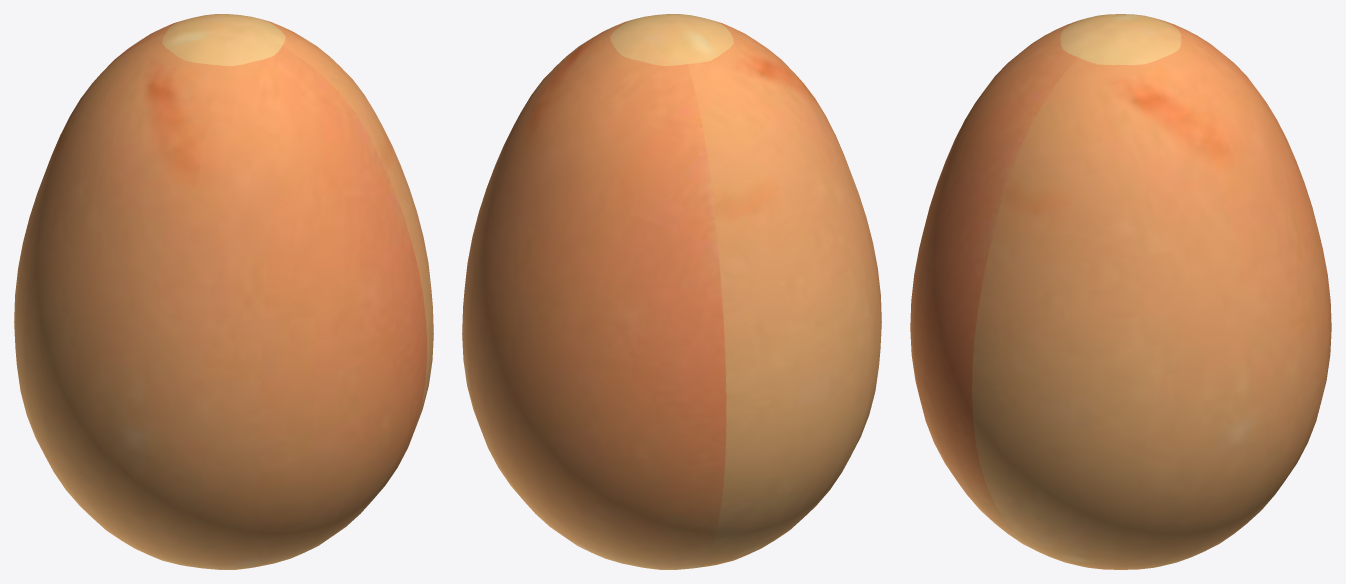
Rendered from badEgg.glb.
3 views of the same model, side by side, from view 1: azimuth 30°, elevation 25°; view 2: azimuth 150°, elevation 25°; view 3: azimuth 270°, elevation 25° (orthographic).
Visible parts, largest first — view 1: egg; view 2: egg; view 3: egg.
Part boxes in pixels (bbox=[...]): egg: bbox=[14, 14, 433, 569]; egg: bbox=[462, 14, 881, 569]; egg: bbox=[910, 14, 1331, 569].
Bounding box in the file's own units: 0.00328 × 0.00451 × 0.00328.
Materials: 1 (1 with a texture image).
